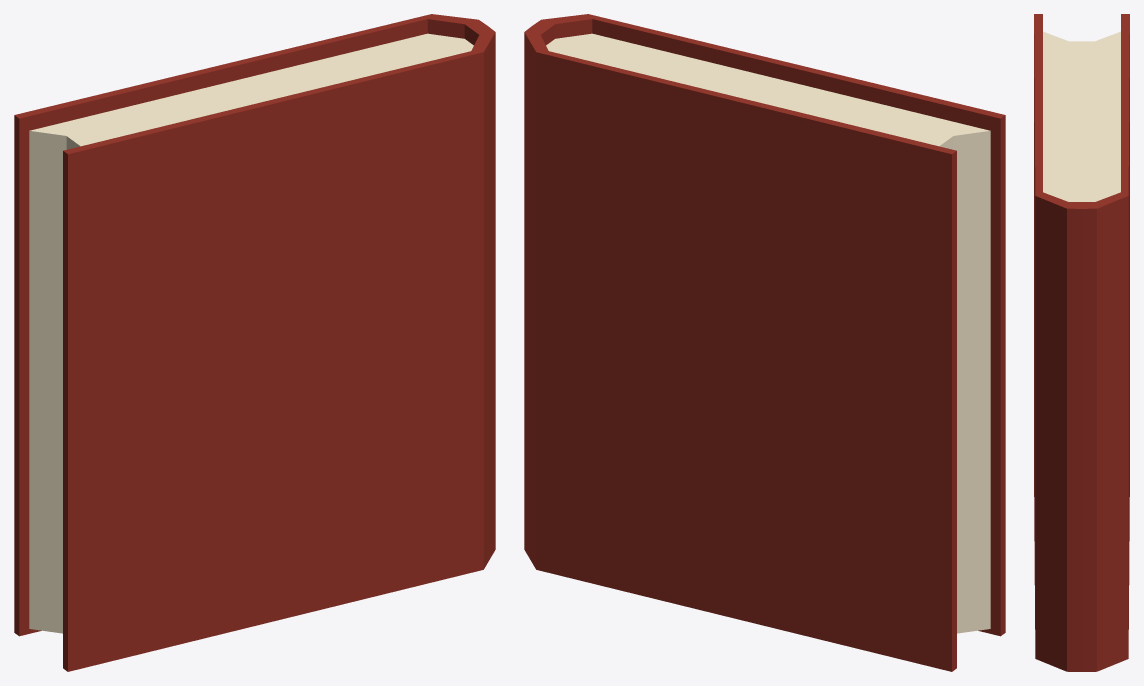
The model's file is Book_02.fbx.
The picture shows the model from 3 angles, left to right: view 1: azimuth 30°, elevation 25°; view 2: azimuth 150°, elevation 25°; view 3: azimuth 270°, elevation 25°; orthographic projection. The views are drawn at different scales.
Parts seen in each view (by area): view 1: Plane.304; view 2: Plane.304; view 3: Plane.304.
Boxes of the visible parts, left/top/right/bottom form: Plane.304: left=14, top=14, right=495, bottom=671; Plane.304: left=524, top=14, right=1005, bottom=671; Plane.304: left=1034, top=14, right=1129, bottom=671.
Size of the model in its own units: 0.6274 by 0.1305 by 0.6951.
